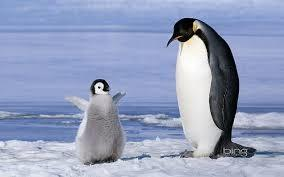emporer: (157, 12, 262, 163)
